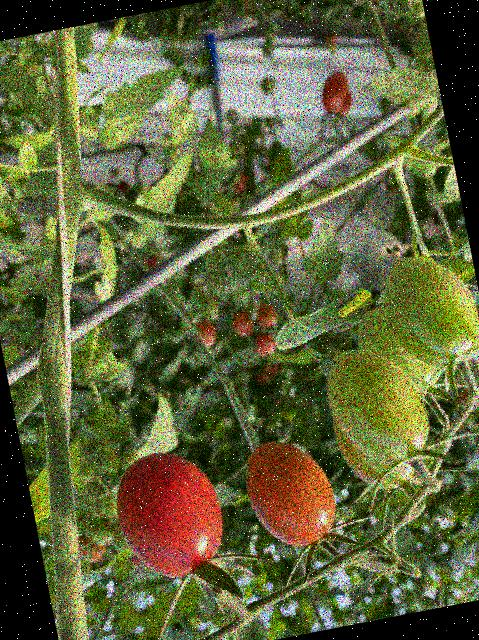l_fully_ripened: (105, 443, 231, 587)
l_green: (318, 337, 436, 477), (373, 245, 479, 377), (350, 297, 446, 402), (330, 402, 423, 499)
l_half_ripened: (238, 431, 342, 556)
